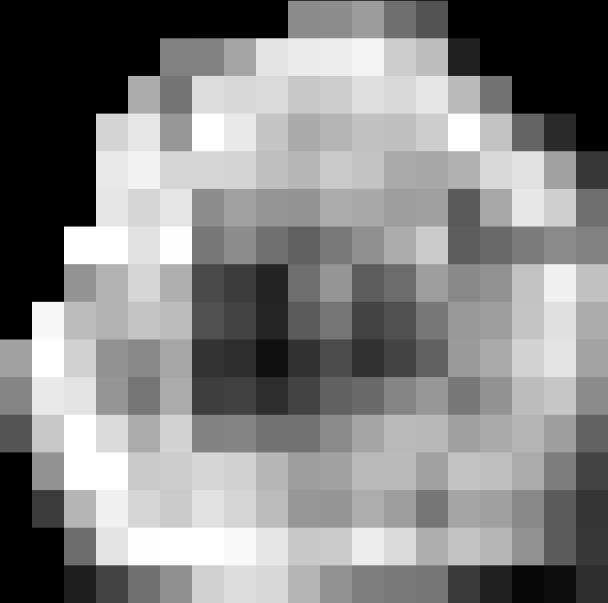tumor_good_chance: (0, 1, 608, 603)
